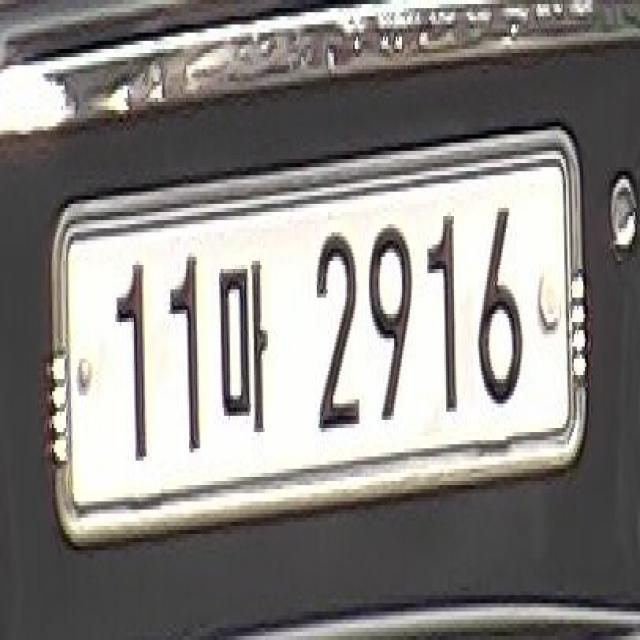1: (114, 242, 154, 470), (427, 200, 468, 420), (165, 238, 203, 461)
2: (315, 226, 362, 438)
6: (474, 182, 531, 424)
9: (364, 207, 416, 429)
license_plate: (51, 118, 590, 564)
ma: (211, 242, 278, 462)
